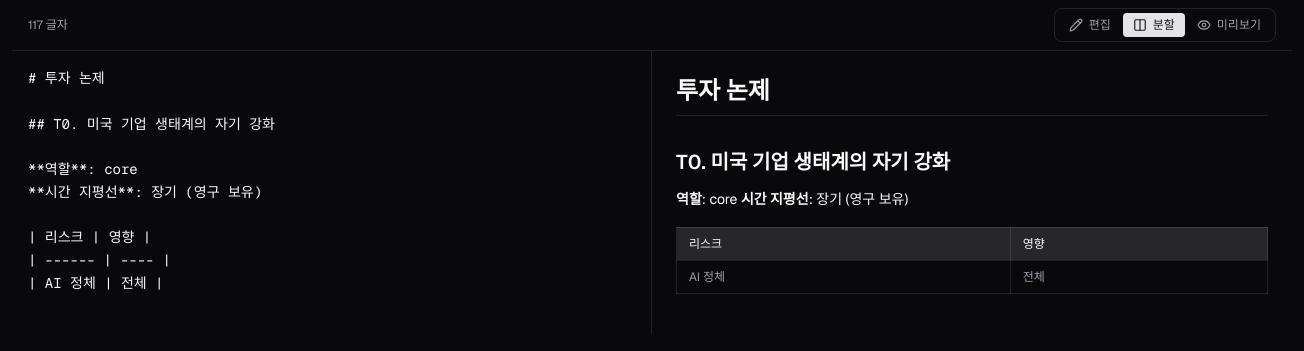
Scenario: ThesesEditor › 뷰 모드 전환 › 편집 모드에서 textarea만 표시된다
Click the button titled "편집" at coordinates (1090, 25), box [1059,13,1121,37]
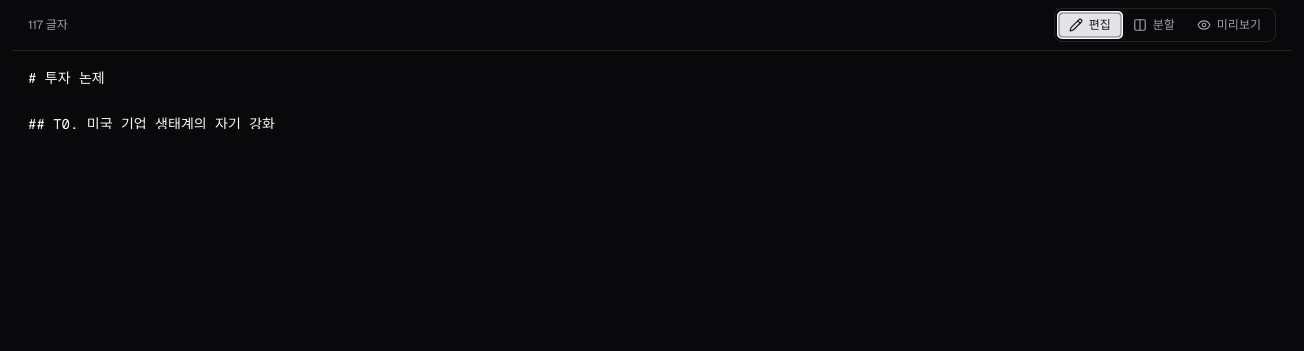
Check: the text box with test id "theses-textarea" is shown, box [12,51,1292,128]
Check: the element with test id "preview-pane" is gone
